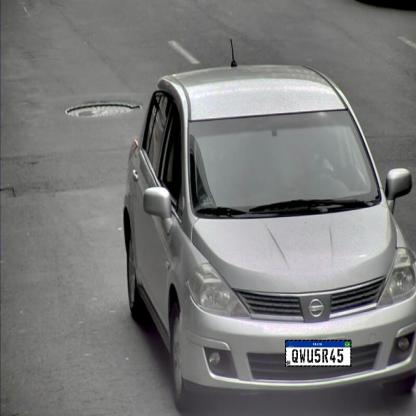PlacaM: (285, 340, 351, 367)
